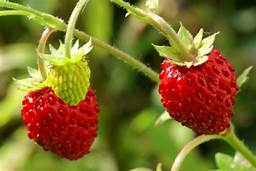Fresa: (153, 37, 249, 143), (19, 73, 111, 165)
